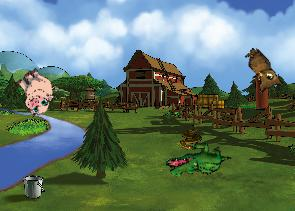crocodile: (163, 130, 232, 192)
owl: (234, 45, 286, 98)
pig: (8, 63, 63, 119)
